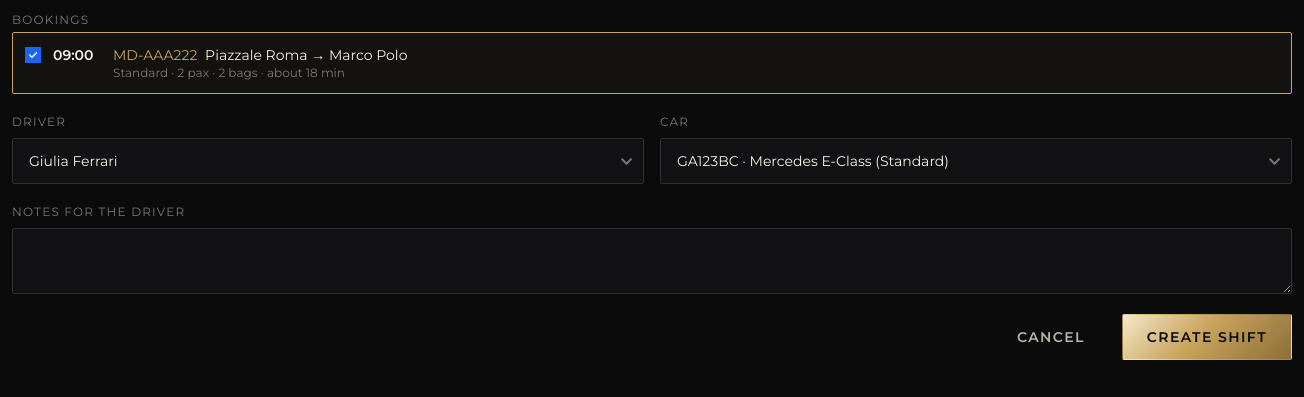
ShiftEditorComponent › shows why a driver is not available
The width and height of the screenshot is (1304, 397).
Select "⚠ Marco Bianchi" in the dropdown labelled "Driver": [328, 161] box [12, 138, 644, 184]
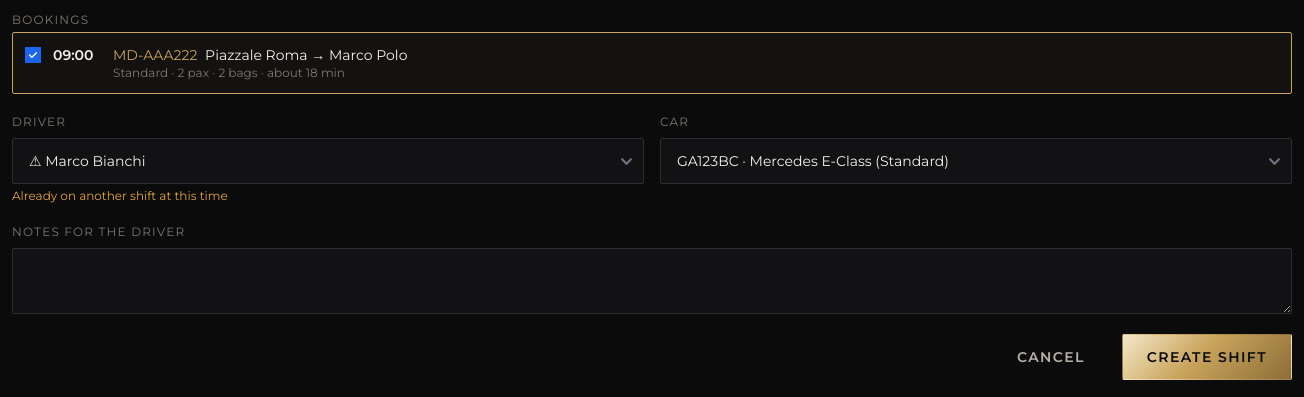
Expected: the text "Already on another shift at this time" is shown, [12, 188, 228, 203]
